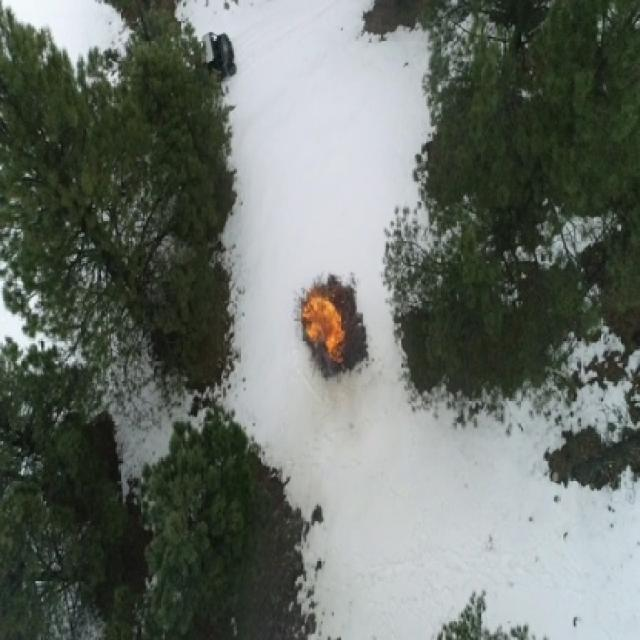Fire: (301, 288, 353, 365)
